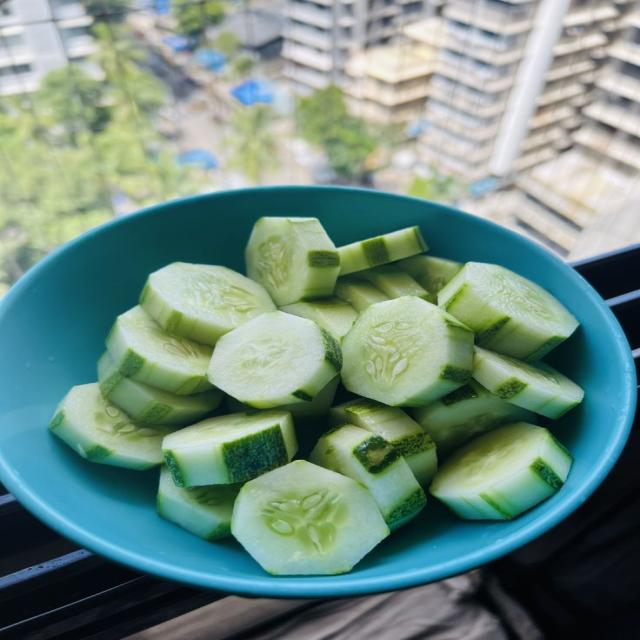cucumber sliced: (232, 461, 388, 574), (342, 297, 473, 405), (431, 423, 572, 519), (439, 263, 578, 360), (208, 312, 341, 408), (310, 425, 426, 529), (140, 263, 275, 345), (49, 383, 171, 469), (162, 410, 297, 486), (410, 380, 534, 459), (329, 398, 437, 485), (107, 306, 212, 394), (98, 353, 223, 424), (246, 218, 339, 306), (474, 348, 583, 418), (157, 467, 239, 540), (338, 227, 427, 275), (281, 297, 357, 341), (398, 256, 463, 302), (278, 376, 339, 420), (360, 265, 434, 301), (335, 275, 389, 312)
